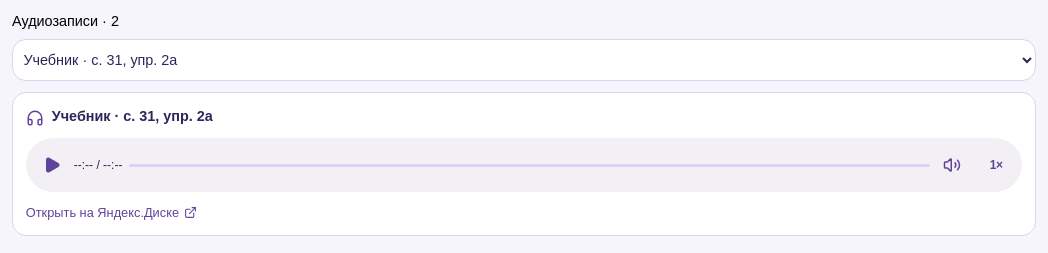
it: AudioPlayer › selects library tracks without mounting a player for every recording
expect the number of elements with class "edu-audio" is 1: met, box [12,92,1036,236]
Select "Рабочая тетрадь · с. 15" in the dropdown labelled "Аудиозаписи · 2" at (524, 60), box [12,39,1036,81]
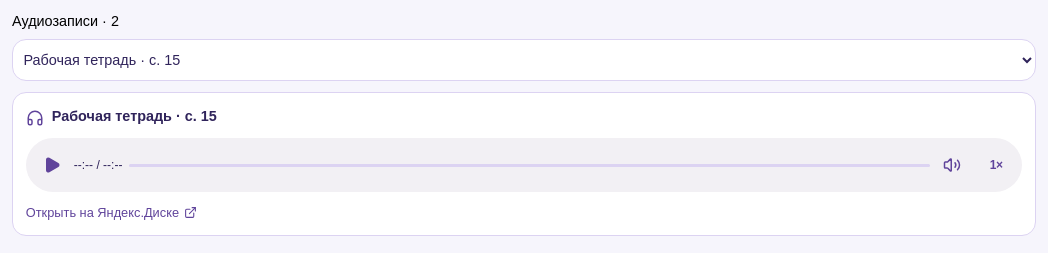
expect the element with class "edu-audio-heading" shows "Рабочая тетрадь": met, box [52,108,217,124]
